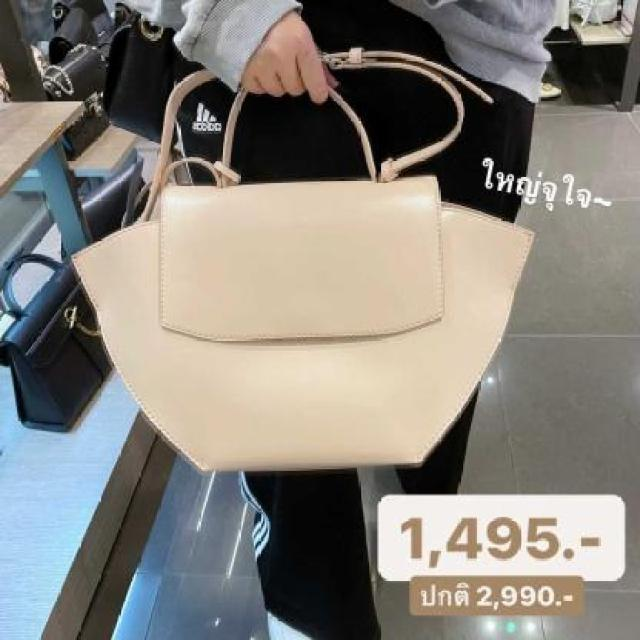Bag: (20, 30, 552, 515)
